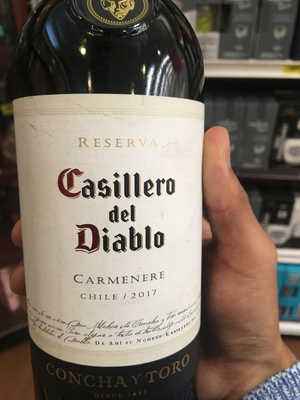casillero del diablo carmenere: (10, 7, 212, 400)
